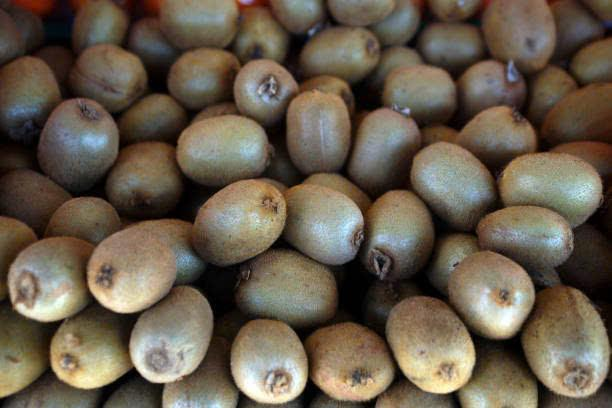kiwi: (419, 144, 594, 257), (228, 265, 376, 397), (305, 75, 445, 191), (0, 307, 153, 408), (292, 194, 427, 282), (528, 286, 611, 402), (36, 81, 122, 184), (0, 170, 109, 244), (122, 298, 212, 383), (27, 311, 121, 390), (100, 225, 183, 310), (3, 235, 88, 318), (185, 116, 286, 185), (187, 182, 274, 262), (390, 303, 472, 380), (105, 131, 179, 213), (4, 60, 69, 138), (465, 255, 531, 331), (158, 1, 250, 52), (81, 40, 143, 108), (133, 90, 188, 148), (70, 2, 132, 46)
